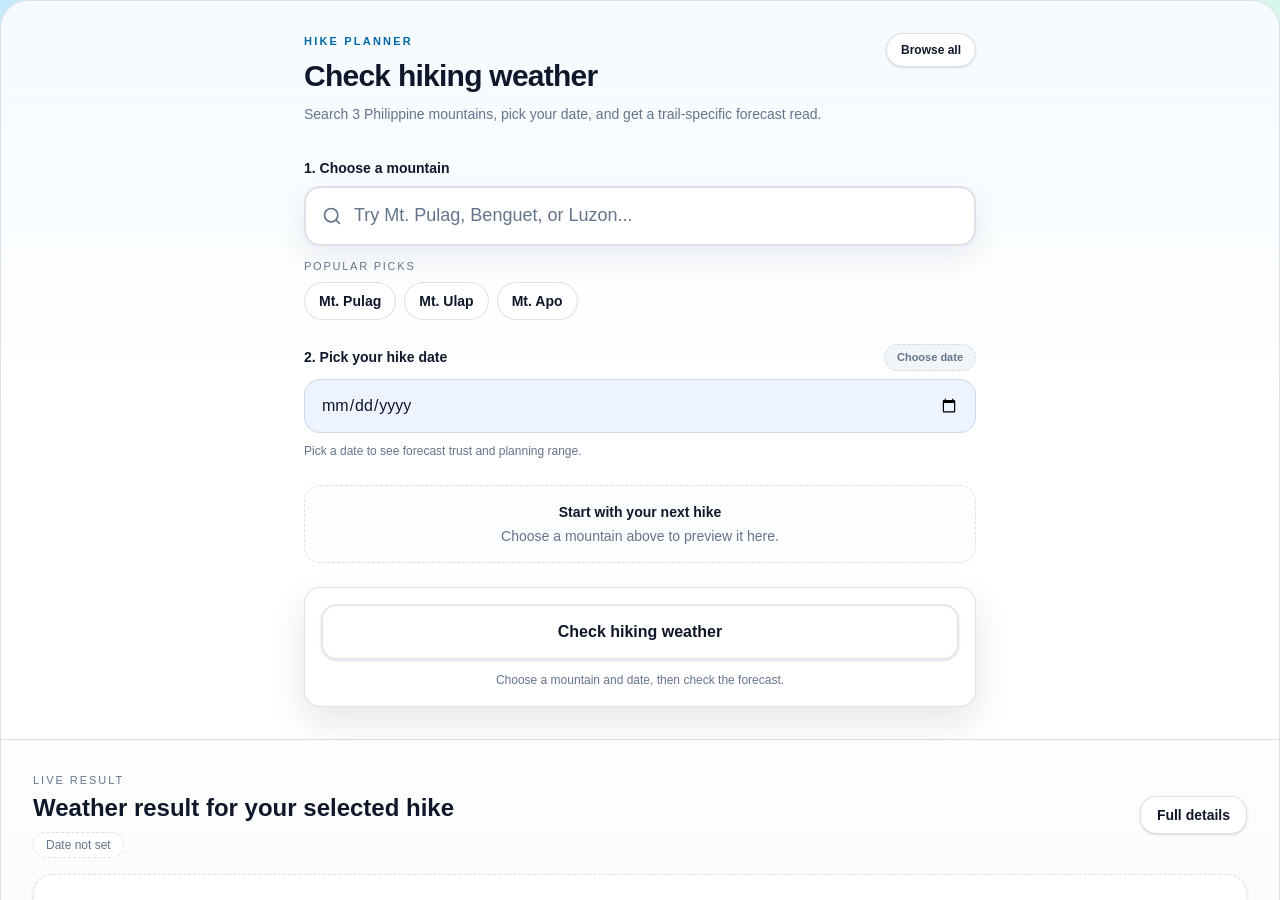
Scenario: HomePlannerClient › starts without a selected mountain or date and opens a guidance popup when checking early
This screenshot has width=1280, height=900.
Expected: the text "Start with your next hike" is shown, x1=559 y1=504 x2=721 y2=520
Expected: the text "Date not set" is shown, x1=33 y1=832 x2=124 y2=858
Click the button "Check hiking weather" at (640, 632), box x1=321 y1=604 x2=959 y2=660
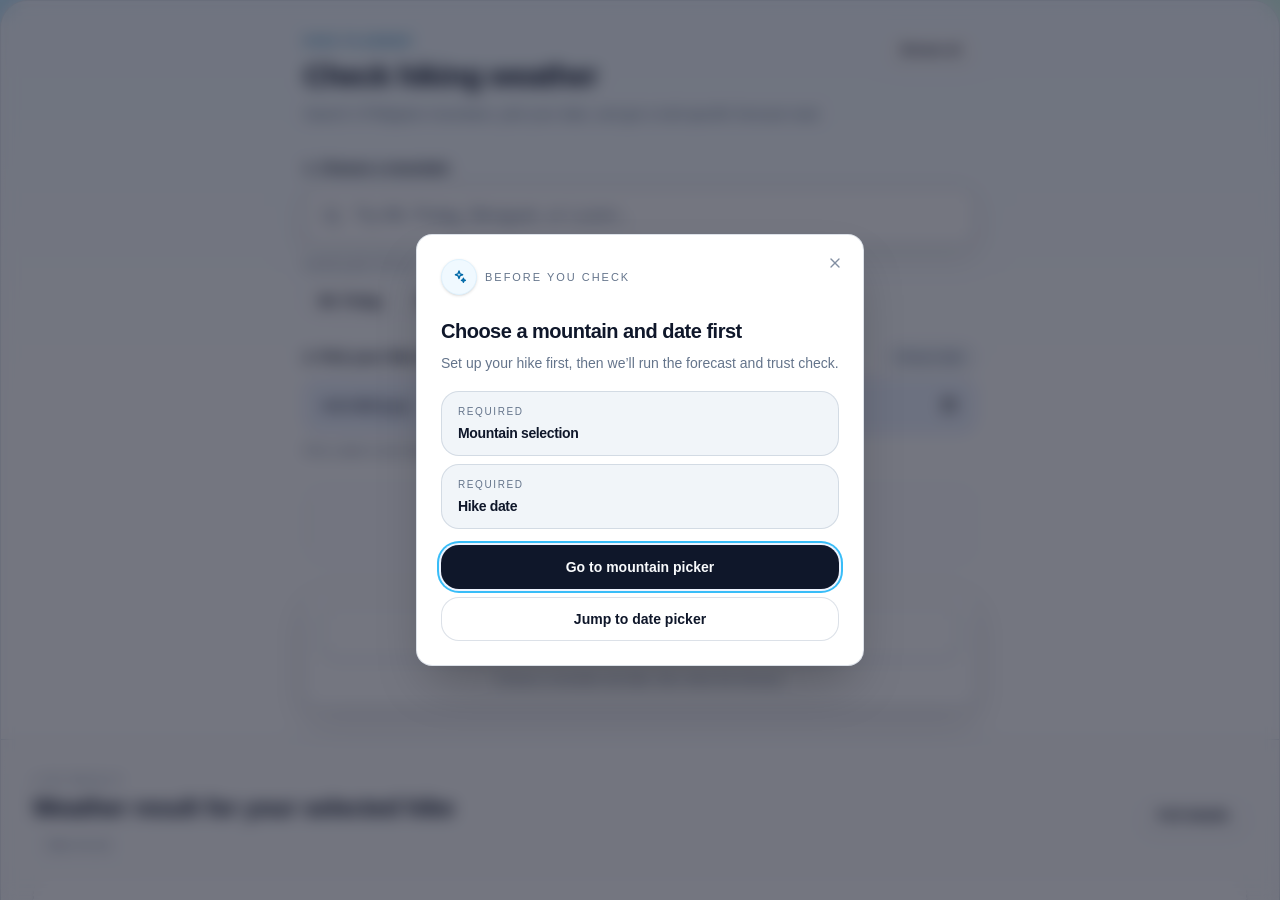
Expected: the dialog "Choose a mountain and date first" is shown, x1=416 y1=234 x2=864 y2=666
